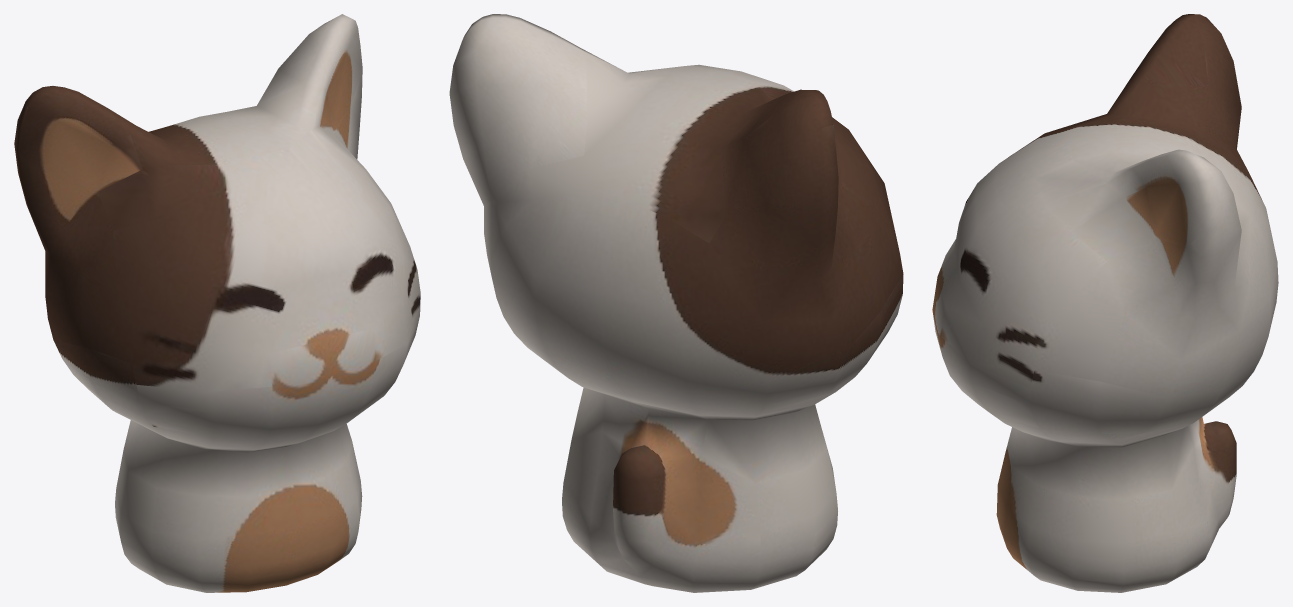
The picture shows the model from 3 angles, left to right: view 1: azimuth 30°, elevation 25°; view 2: azimuth 150°, elevation 25°; view 3: azimuth 270°, elevation 25°; orthographic projection. The views are drawn at different scales.
Parts seen in each view (by area): view 1: 1; view 2: 1; view 3: 1.
Boxes of the visible parts, x1,y1,x2,y2 form: 1: (14,14,420,592); 1: (449,14,903,592); 1: (932,14,1278,592).
Size of the model in its own units: 75.2 by 99.8 by 66.21.
